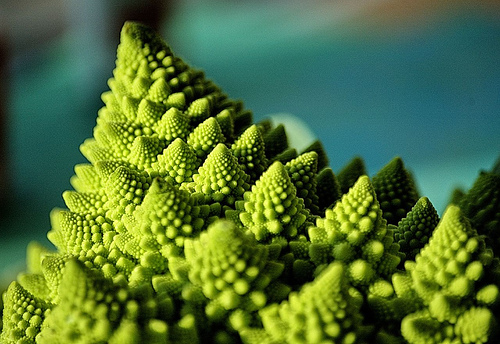broccoli: (0, 17, 499, 343)
